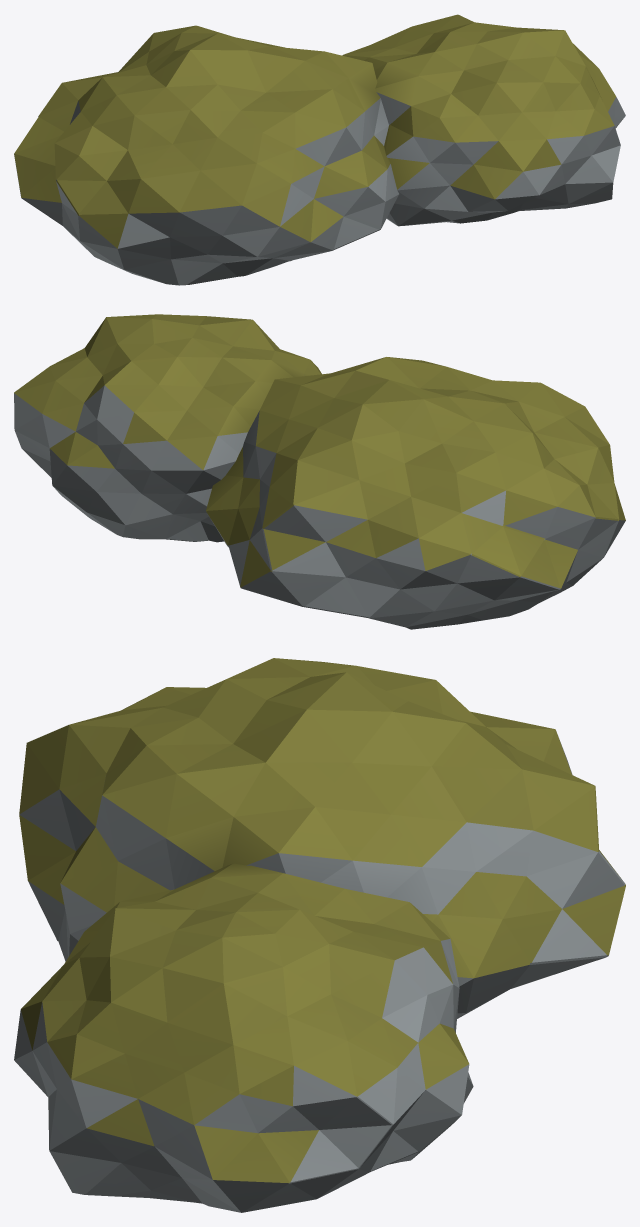
Rendered from rock_mossy_b.glb.
3 renders of one model, top to bottom at view 1: azimuth 30°, elevation 25°; view 2: azimuth 150°, elevation 25°; view 3: azimuth 270°, elevation 25°, orthographic. The views are drawn at different scales.
Size of the model in its own units: 3.17 by 0.9359 by 1.97.
